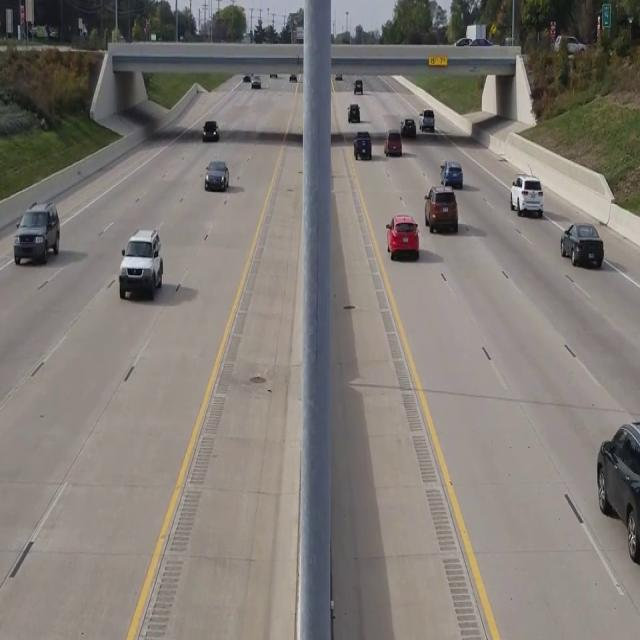car: (596, 419, 640, 564), (118, 229, 163, 300), (14, 200, 59, 264), (559, 222, 604, 269), (386, 213, 420, 260), (424, 186, 458, 232), (509, 174, 544, 217), (204, 159, 228, 191), (440, 160, 463, 188), (384, 129, 401, 155), (202, 120, 219, 141)
